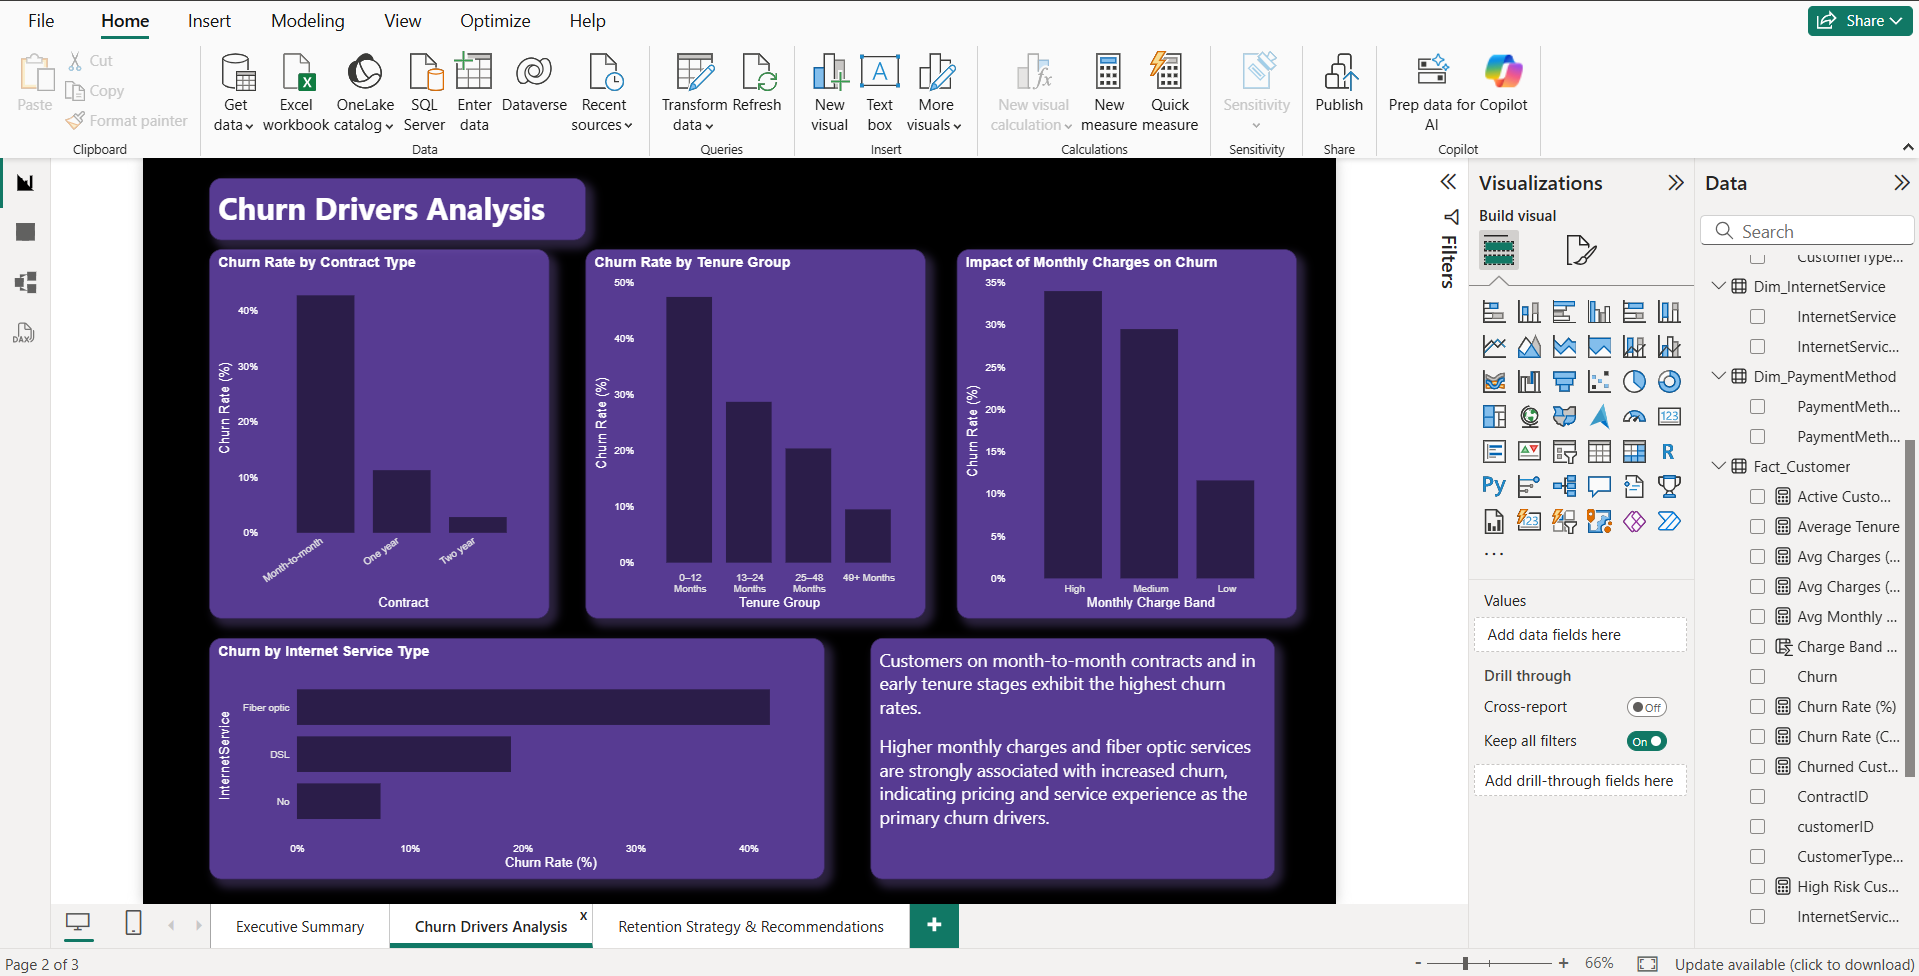

The dashboard page shown, as its layout file describes it:
{"tool":"powerbi","page":{"name":"Churn Drivers Analysis","canvas":[1440,900],"ordinal":1},"visuals":[{"type":"clusteredColumnChart","title":"Churn Rate by Contract Type","fields":{"Category":["Dim_Contract.Contract"],"Y":["Fact_Customer.Churn Rate (%)"]},"box":[79.6,110.2,410.3,445.5],"z":0},{"type":"clusteredColumnChart","title":"Churn Rate by Tenure Group","fields":{"Category":["Fact_Customer.Tenure Group"],"Y":["Fact_Customer.Churn Rate (%)"]},"box":[534.3,110.2,410.3,445.5],"z":1000},{"type":"clusteredColumnChart","title":"Impact of Monthly Charges on Churn","fields":{"Category":["Fact_Customer.Monthly Charge Band"],"Y":["Fact_Customer.Churn Rate (%)"]},"box":[981.3,110.2,410.3,445.5],"z":2000},{"type":"clusteredBarChart","title":"Churn by Internet Service Type","fields":{"Category":["Dim_InternetService.InternetService"],"Y":["Fact_Customer.Churn Rate (%)"]},"box":[79.6,578.7,742.5,290.9],"z":3000},{"type":"textbox","box":[877.2,578.7,488.4,290.9],"z":4000},{"type":"textbox","box":[79.6,24.5,454.7,75],"z":5000}]}

Visuals, with their boxes on the page's 1440x900 design canvas (x1, y1, x2, y2). These are canvas units, not pixel positions in the 1919x976 screenshot, which may show the page scaled, cropped or inside an application window:
"Churn Rate by Contract Type" clusteredColumnChart: crop(80, 110, 490, 556)
"Churn Rate by Tenure Group" clusteredColumnChart: crop(534, 110, 945, 556)
"Impact of Monthly Charges on Churn" clusteredColumnChart: crop(981, 110, 1392, 556)
"Churn by Internet Service Type" clusteredBarChart: crop(80, 579, 822, 870)
textbox: crop(877, 579, 1366, 870)
textbox: crop(80, 24, 534, 100)
